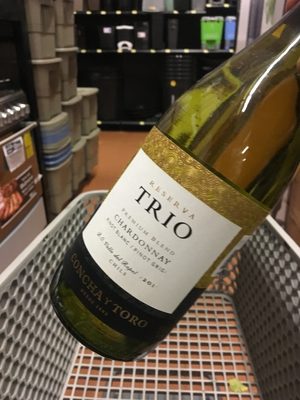trio chardonnay: (55, 33, 274, 381)
